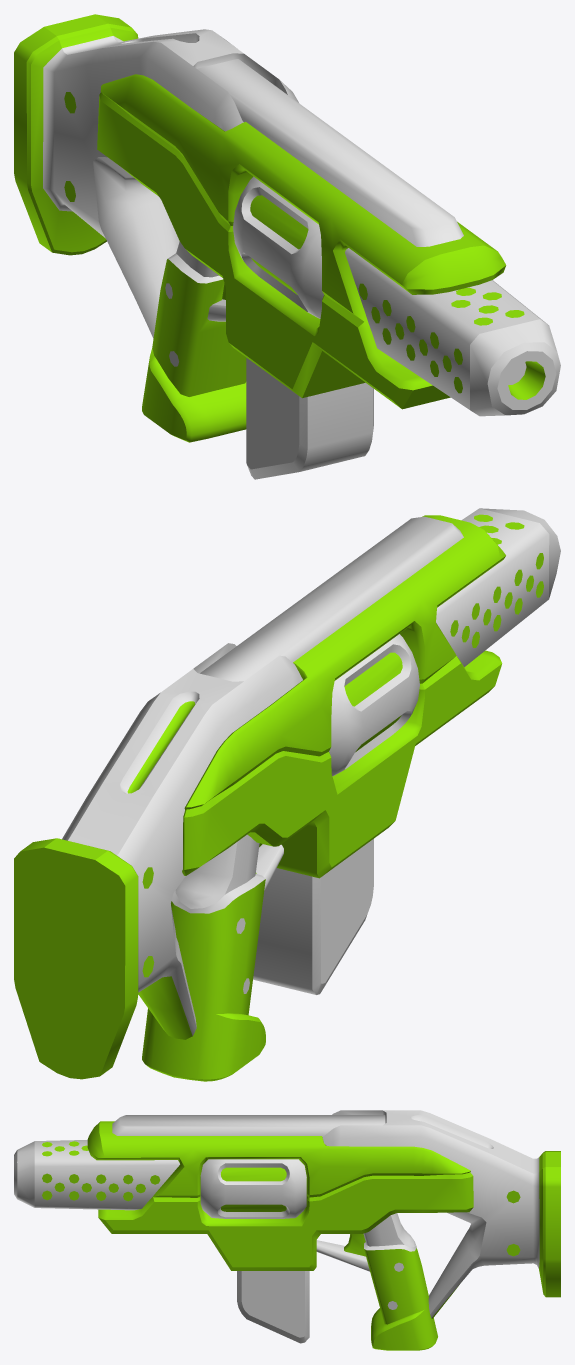
File: Rifle F Mat.fbx
The picture shows the model from 3 angles, top to bottom: view 1: azimuth 30°, elevation 25°; view 2: azimuth 150°, elevation 25°; view 3: azimuth 270°, elevation 25°; orthographic projection. The views are drawn at different scales.
Visible parts, largest first — view 1: Rifle F Mat, Rifle F Mat.002, Rifle F Mat.001; view 2: Rifle F Mat, Rifle F Mat.002, Rifle F Mat.001; view 3: Rifle F Mat, Rifle F Mat.001, Rifle F Mat.002.
Part boxes in pixels (x1=…): Rifle F Mat: x1=14, y1=14, x2=560, y2=442; Rifle F Mat.002: x1=246, y1=357, x2=373, y2=479; Rifle F Mat.001: x1=233, y1=176, x2=323, y2=318; Rifle F Mat: x1=14, y1=508, x2=560, y2=1081; Rifle F Mat.002: x1=253, y1=839, x2=373, y2=994; Rifle F Mat.001: x1=329, y1=634, x2=419, y2=776; Rifle F Mat: x1=14, y1=1110, x2=560, y2=1350; Rifle F Mat.001: x1=200, y1=1159, x2=306, y2=1218; Rifle F Mat.002: x1=237, y1=1271, x2=309, y2=1343.
Size of the model in its own units: 0.165 by 0.4803 by 1.08.
